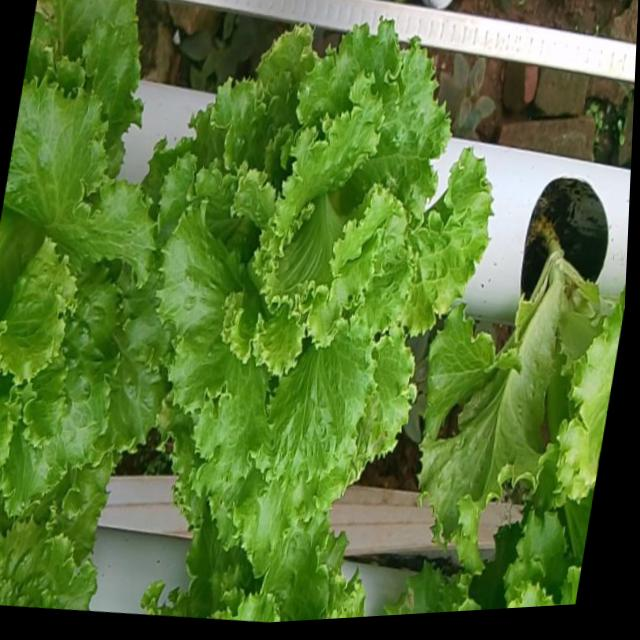Mature: (166, 4, 502, 541), (0, 58, 178, 505)
